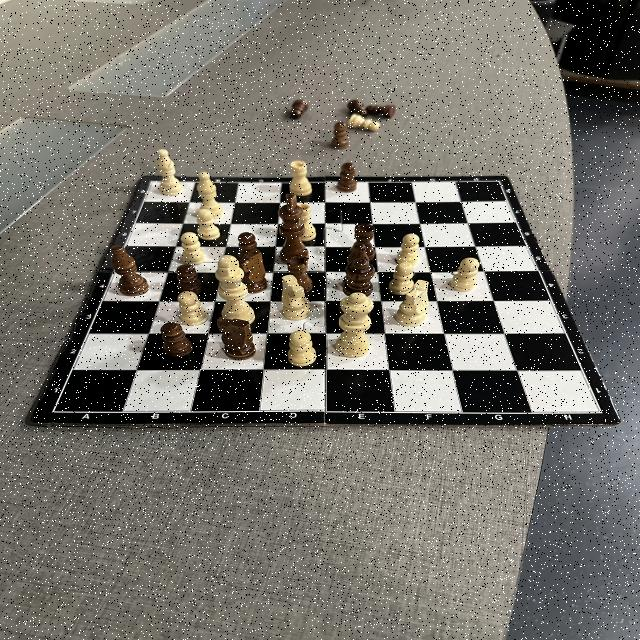Black-Bishop: (110, 246, 150, 296)
Black-King: (278, 193, 308, 263)
Black-Knight: (216, 316, 256, 361), (238, 250, 268, 294), (348, 243, 370, 259)
Black-Pawn: (160, 322, 194, 357), (176, 264, 204, 294), (338, 163, 358, 193), (331, 122, 350, 150), (238, 232, 258, 258), (366, 104, 396, 119), (290, 100, 309, 120), (348, 100, 368, 116)
Black-Queen: (342, 258, 375, 294)
Black-Rook: (286, 255, 314, 292), (354, 222, 376, 242)
White-Bishop: (156, 148, 184, 196), (197, 172, 224, 219)
White-King: (216, 255, 256, 323)
White-Knight: (396, 280, 430, 327), (282, 274, 312, 320)
White-Pawn: (177, 291, 209, 326), (287, 330, 317, 367), (450, 258, 480, 292), (388, 262, 414, 296), (181, 232, 206, 266), (197, 208, 221, 240), (396, 233, 420, 262), (347, 114, 381, 132)
White-Queen: (334, 292, 374, 358)
White-Rook: (289, 160, 313, 197), (300, 203, 318, 241)
